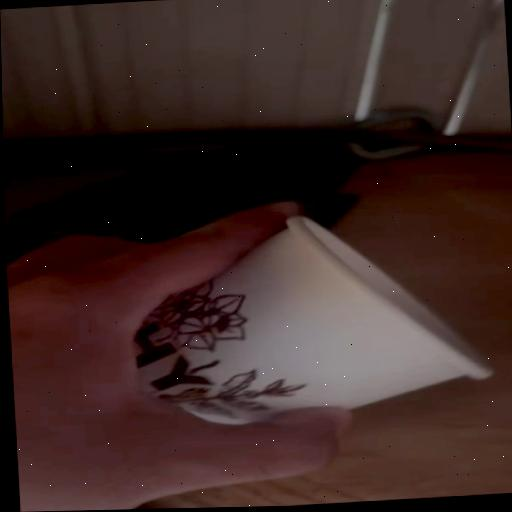Ly_giay: (138, 216, 490, 422)
